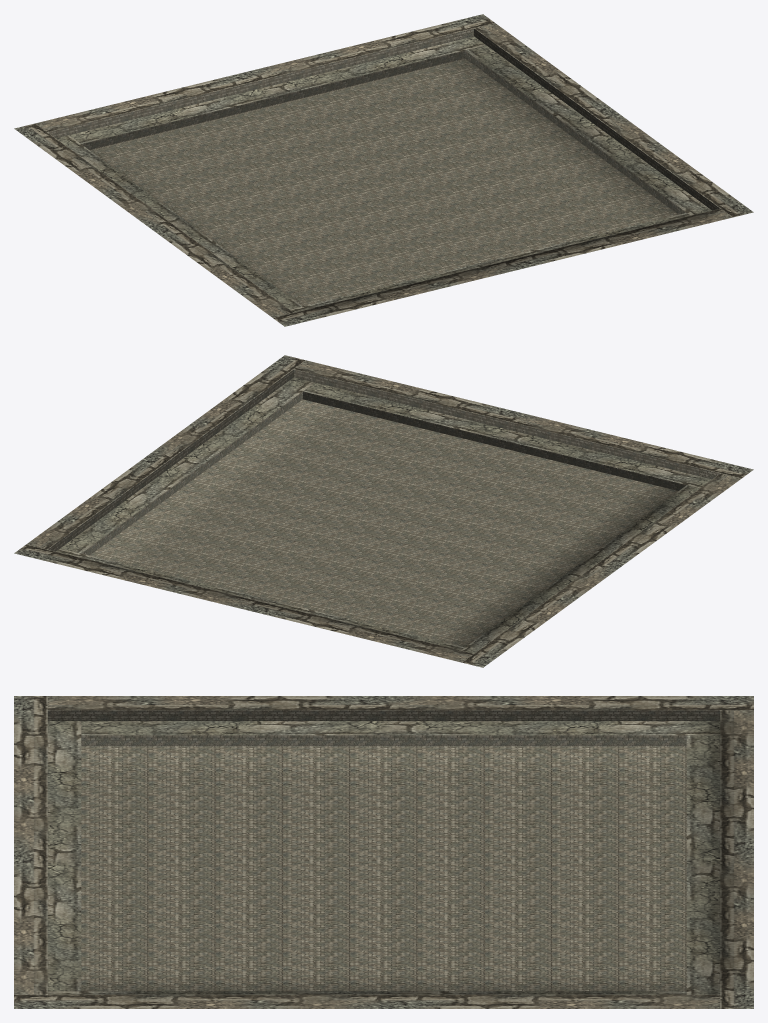
Rendered from stage.FBX.
3 renders of one model, top to bottom at view 1: azimuth 30°, elevation 25°; view 2: azimuth 150°, elevation 25°; view 3: azimuth 270°, elevation 25°, orthographic. The views are drawn at different scales.
Parts seen in each view (by area): view 1: Plane002; view 2: Plane002; view 3: Plane002.
Part boxes in pixels (x1,y1,x2,y2): Plane002: [14, 14, 753, 326]; Plane002: [14, 355, 753, 667]; Plane002: [14, 696, 753, 1008].
Size of the model in its own units: 12205 by 394 by 12205.
